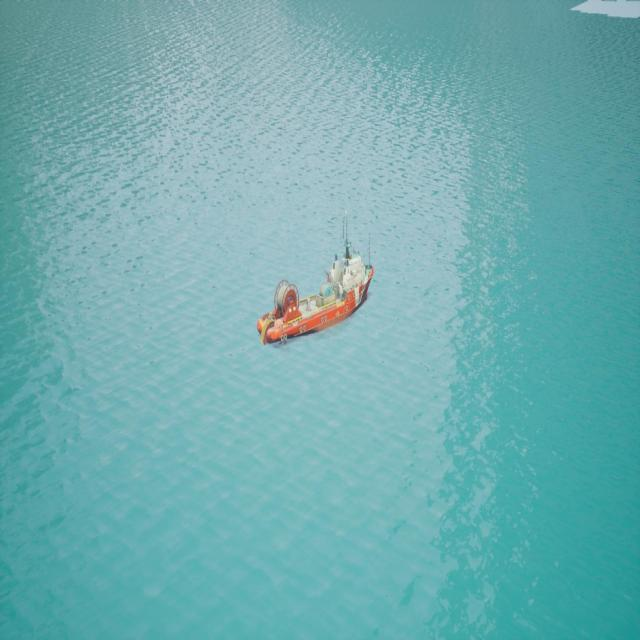tug boat: (259, 257, 375, 347)
